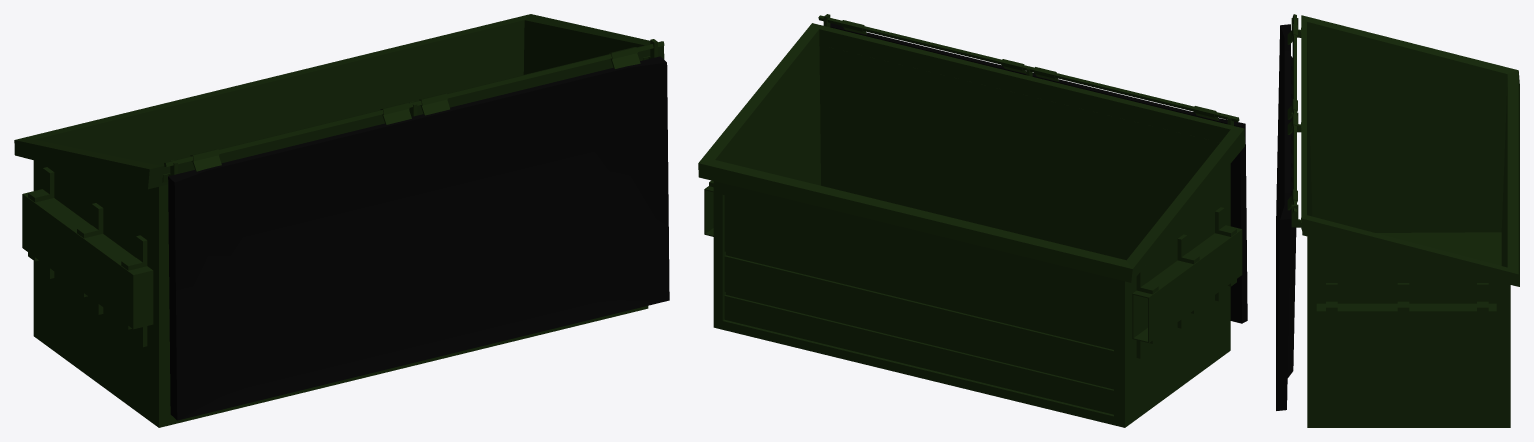
The model's file is openbigbin2.fbx.
The picture shows the model from 3 angles, left to right: view 1: azimuth 30°, elevation 25°; view 2: azimuth 150°, elevation 25°; view 3: azimuth 270°, elevation 25°; orthographic projection. The views are drawn at different scales.
Visible parts, largest first — view 1: Box009, big bin, Box014, Box011; view 2: big bin, Box014, Box009, Box011; view 3: big bin, Box001, Box009, Box011, Box047, Box046, Box048.
Part boxes in pixels (<box>): Box009: <box>168,56,669,420</box>; big bin: <box>14,14,664,427</box>; Box014: <box>22,189,153,329</box>; Box011: <box>164,41,664,171</box>; big bin: <box>698,23,1244,427</box>; Box014: <box>1132,225,1242,342</box>; Box009: <box>830,23,1247,323</box>; Box011: <box>818,15,1239,122</box>; big bin: <box>1301,15,1519,427</box>; Box001: <box>1316,303,1496,355</box>; Box009: <box>1276,24,1296,410</box>; Box011: <box>1287,14,1297,214</box>; Box047: <box>1397,283,1409,311</box>; Box046: <box>1477,283,1488,311</box>; Box048: <box>1326,283,1337,311</box>.
Size of the model in its own units: 365 by 181 by 180.
